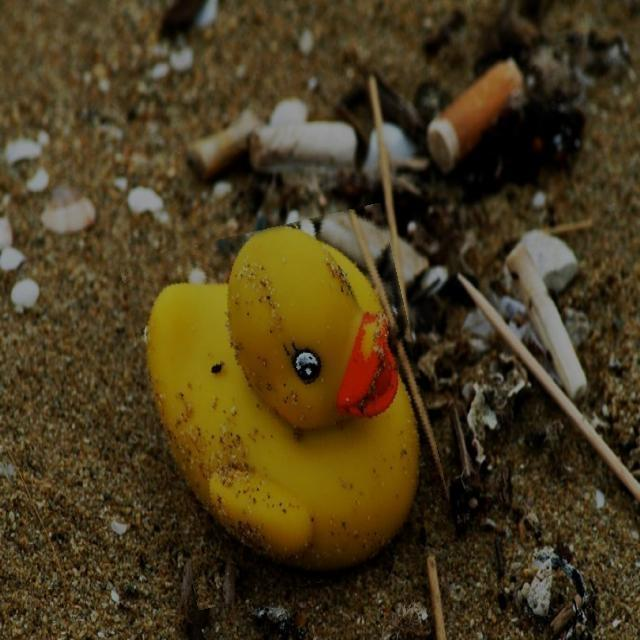rubber-duck: (147, 226, 417, 568)
